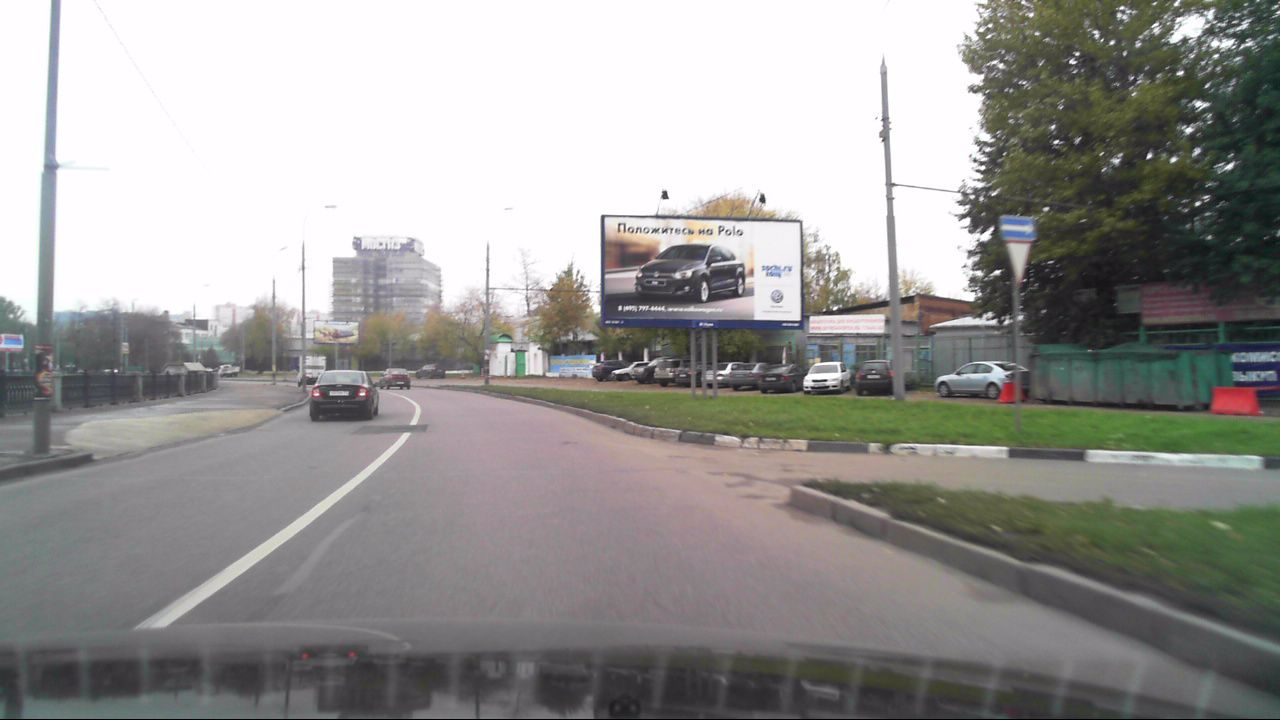One-Way Traffic: (1000, 216, 1036, 239)
